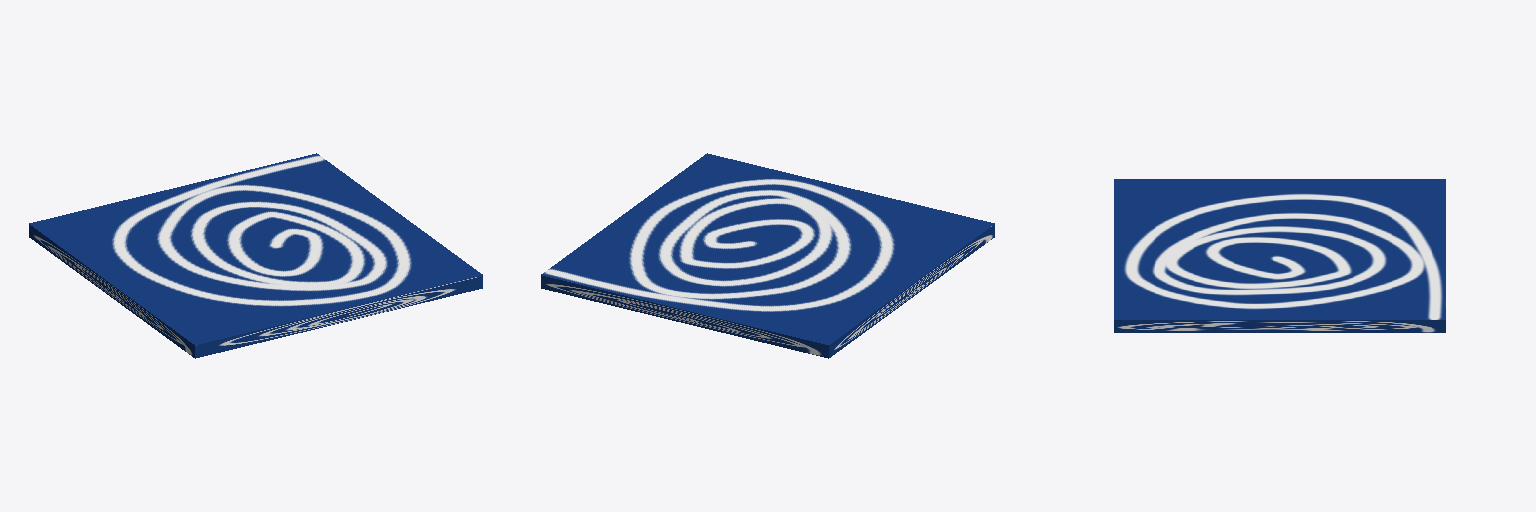
3 renders of one model, left to right at view 1: azimuth 30°, elevation 25°; view 2: azimuth 150°, elevation 25°; view 3: azimuth 270°, elevation 25°, orthographic.
Visible parts, largest first — view 1: Cube_Cube.001; view 2: Cube_Cube.001; view 3: Cube_Cube.001.
Boxes of the visible parts, <box> form: Cube_Cube.001: <box>29,153,482,358</box>; Cube_Cube.001: <box>541,153,994,358</box>; Cube_Cube.001: <box>1114,179,1445,332</box>.
Size of the model in its own units: 7.82 by 0.3427 by 7.82.
Materials: 1 (1 with a texture image).